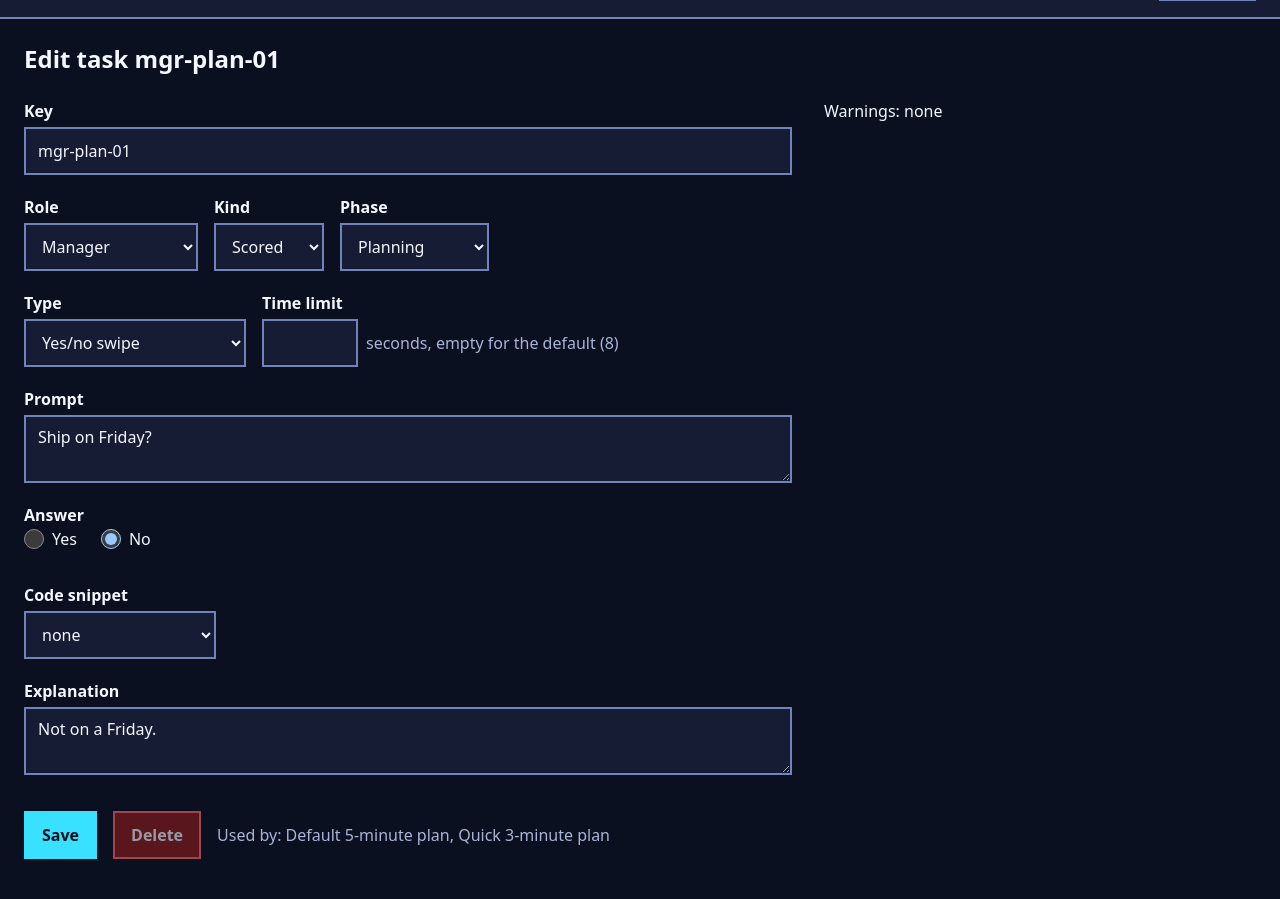
Scenario: TaskEditorScreen › AC-US51-07 saves an edit with its version and lists the warnings in the side panel
(page scrolled)
Expected: the text "Warnings: none" is shown, x1=824 y1=100 x2=942 y2=122
Expected: the text box labelled "Prompt" holds "Ship on Friday?", x1=24 y1=415 x2=792 y2=483
Click the button "Save" at [60, 835], box x1=24 y1=811 x2=97 y2=859
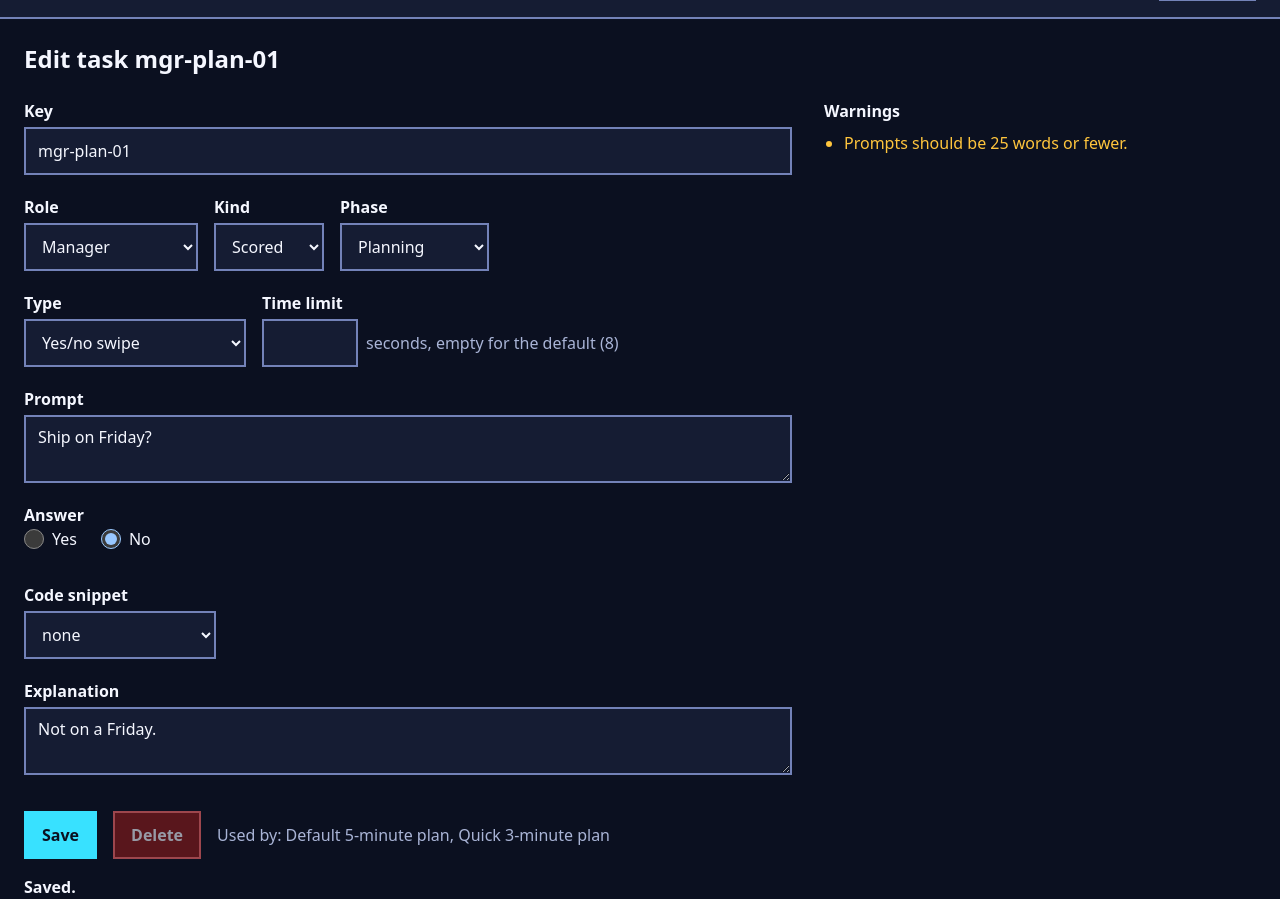
Expected: the list item "Prompts should be 25 words or fewer." is shown, x1=844 y1=131 x2=1144 y2=155
